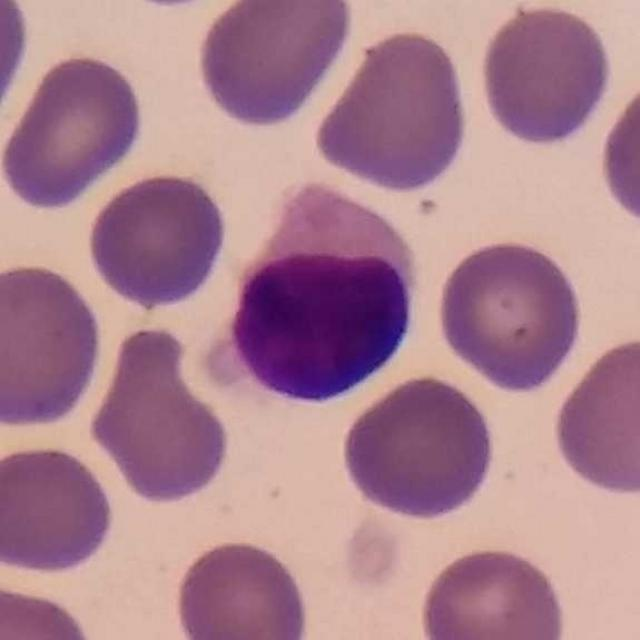Lymphocyte: (214, 189, 425, 410)
RBC: (310, 24, 474, 196), (84, 322, 235, 508), (432, 234, 586, 396), (339, 371, 500, 523), (0, 49, 149, 213), (192, 0, 358, 131), (84, 167, 232, 312), (475, 0, 616, 150), (0, 257, 107, 433), (0, 439, 120, 578), (547, 330, 640, 500), (415, 542, 569, 640), (170, 535, 313, 640), (594, 72, 640, 238), (0, 577, 98, 640), (0, 0, 34, 141)
